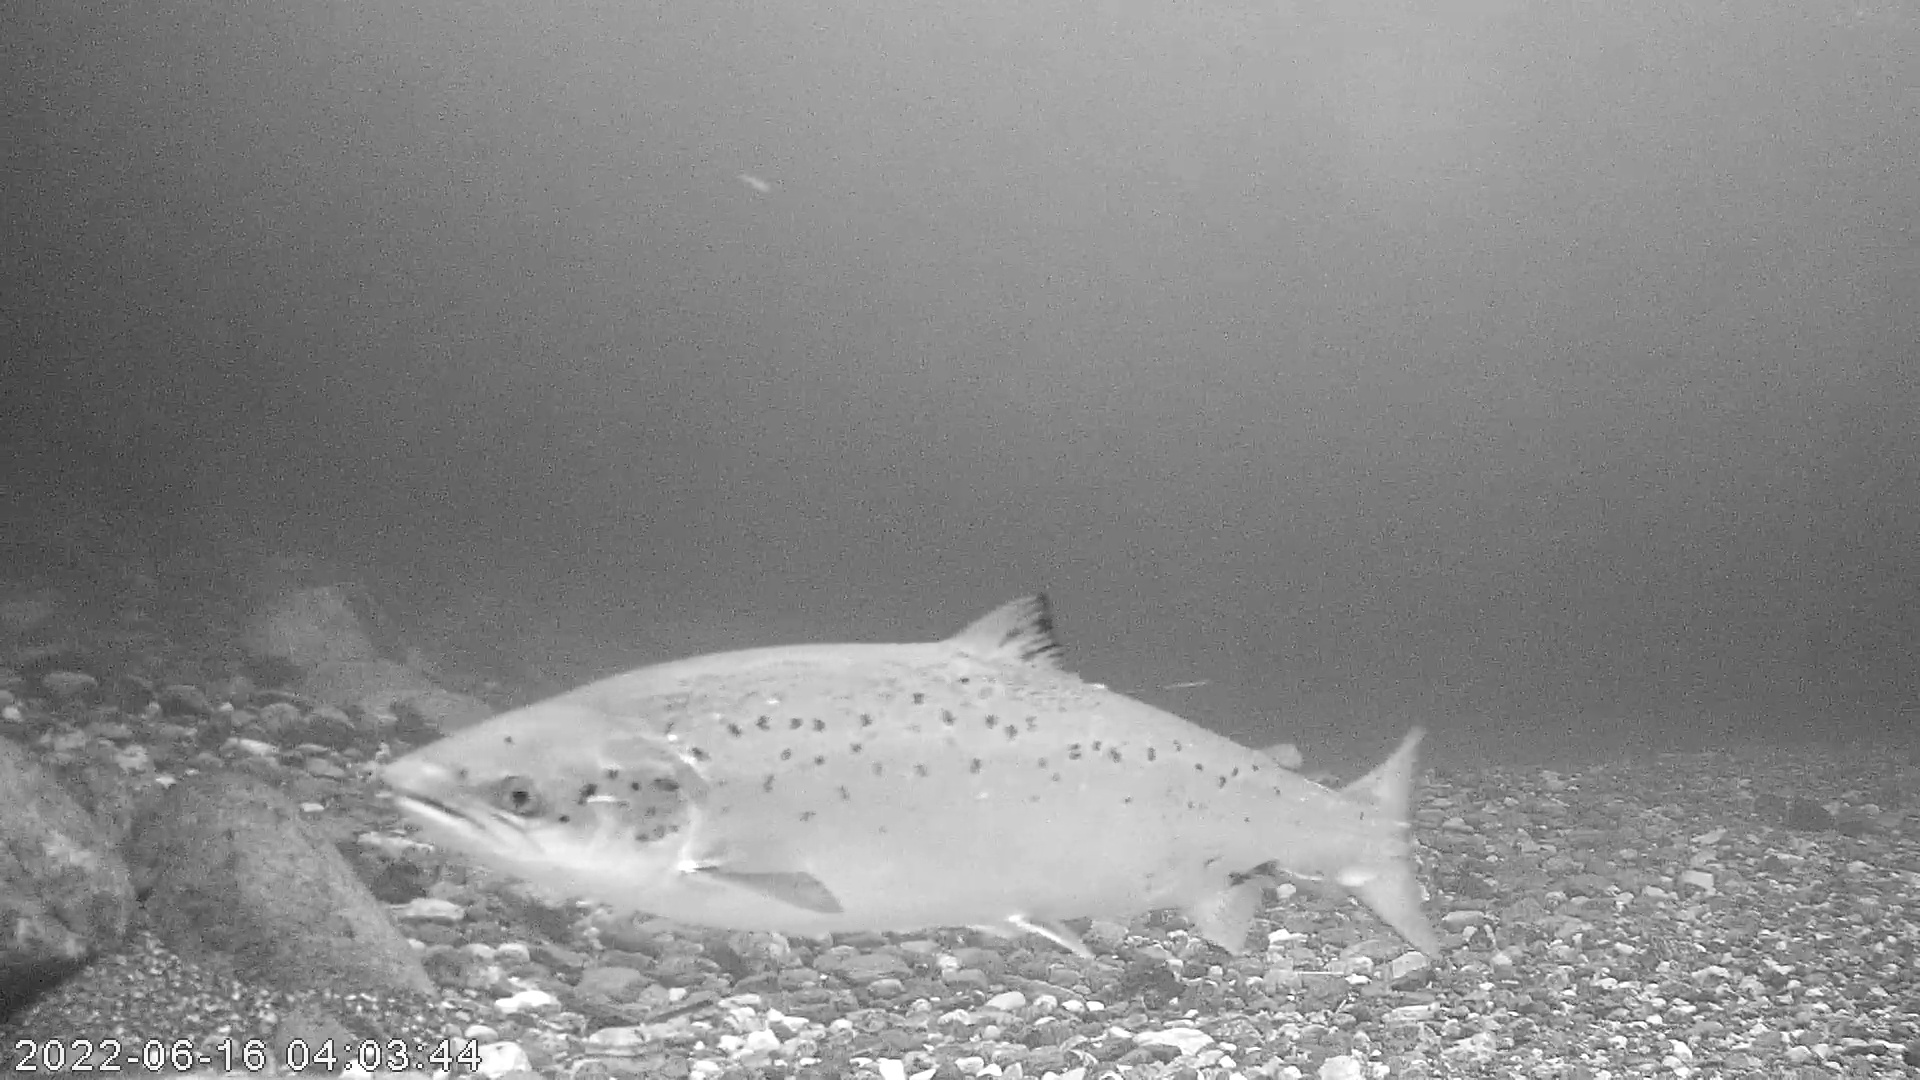salmon: (380, 589, 1449, 960)
